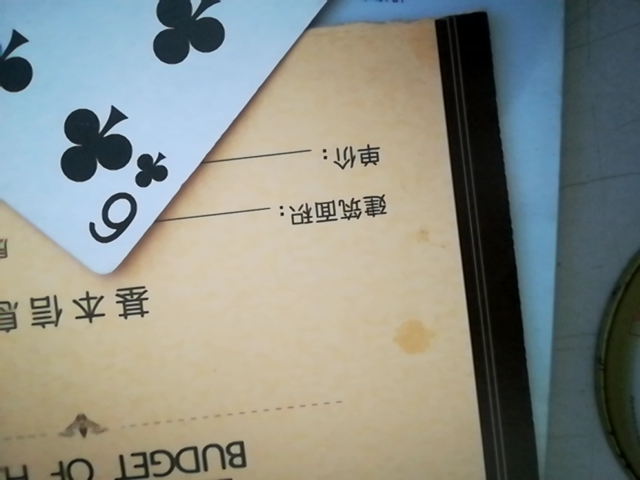mh 6: (0, 0, 402, 280)
